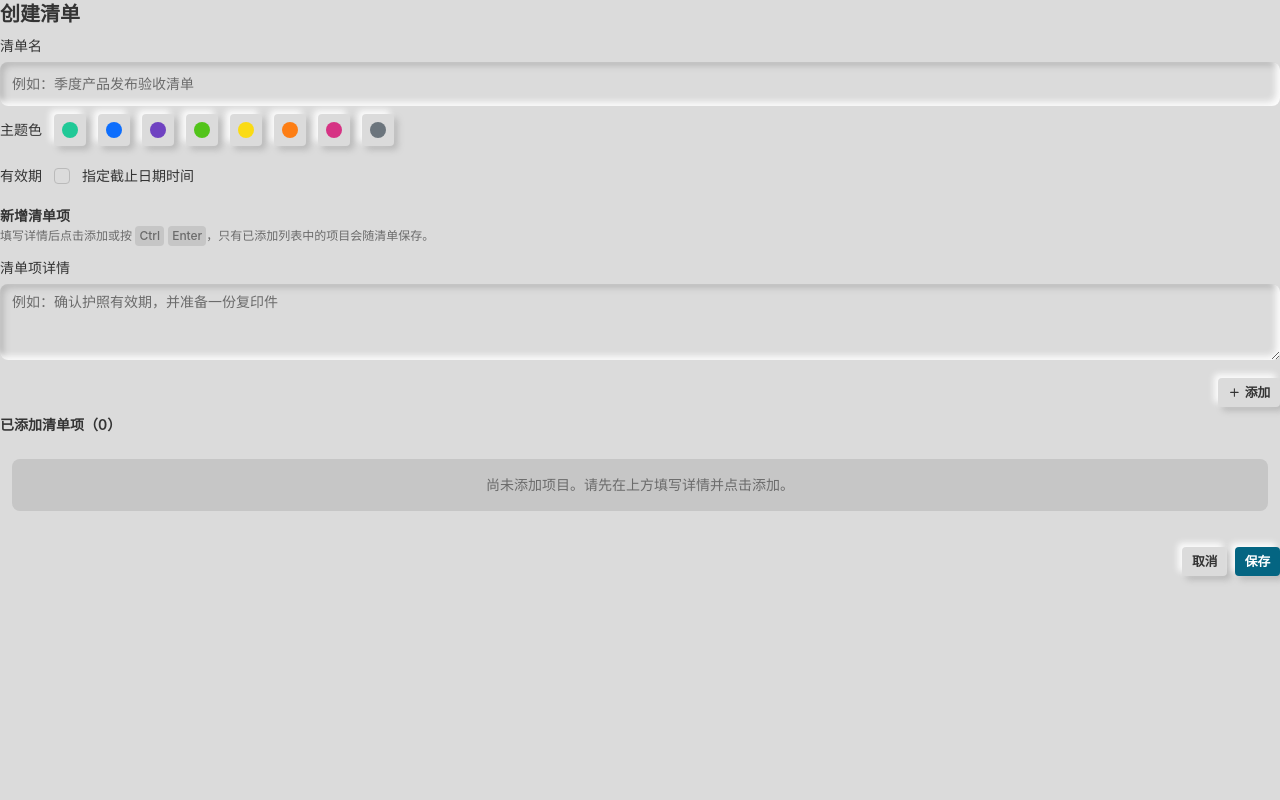
Test: ChecklistForm › covers: AC-8 adds and removes items with accessible controls
Expected: the text "尚未添加项目。请先在上方填写详情并点击添加。" is shown, [12,459,1268,511]
Step 1. Type "完成回归测试" into the text box labelled "清单项详情" → (640, 322), box [0,284,1279,360]
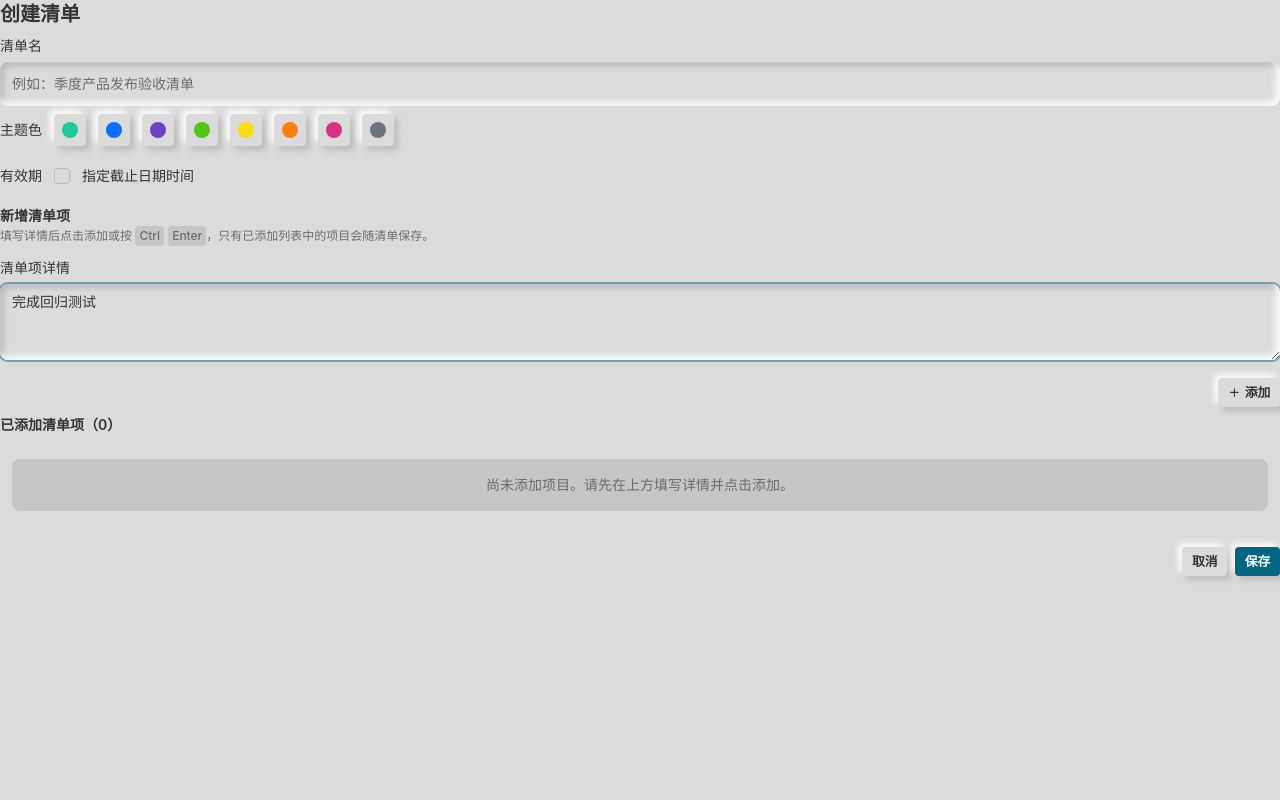
Step 2. Click the button "添加" → (1249, 392), box [1218,378,1279,407]
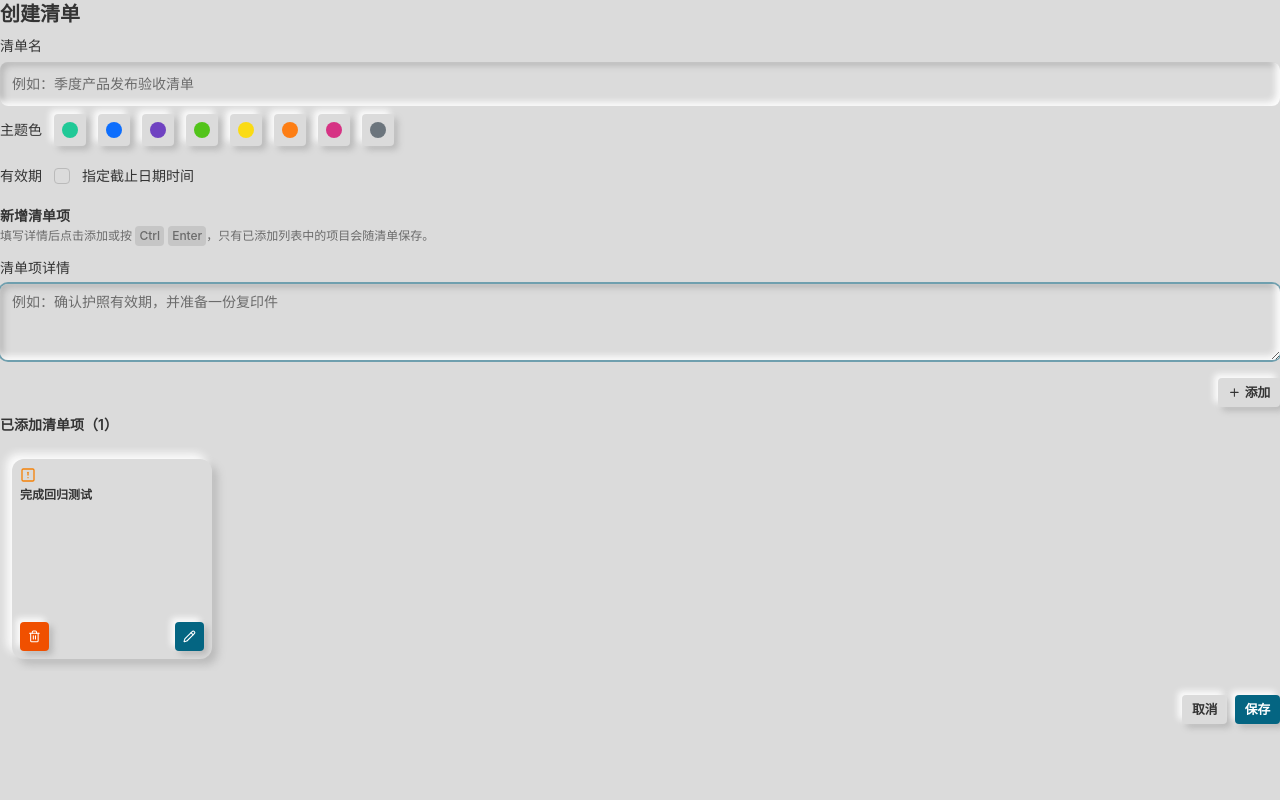
Expected: the heading "已添加清单项（1）" is shown, [0,416,118,433]
Expected: the heading "完成回归测试" is shown, [20,487,92,502]
Expected: the number of list items is 1, [12,459,212,659]
Step 3. Click the button named "删除清单项" → (34, 636), box [20,622,49,651]
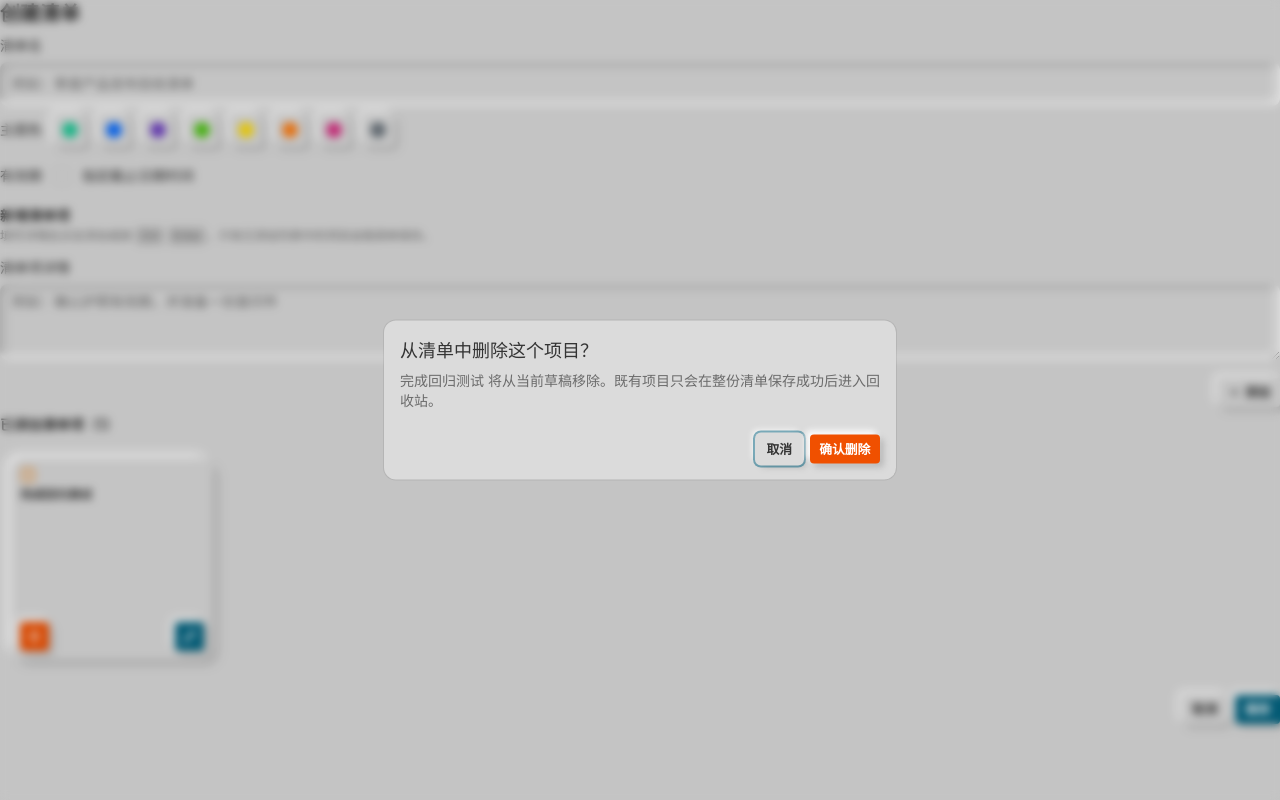
Step 4. Click the button "确认删除" → (845, 449), box [810,434,880,464]
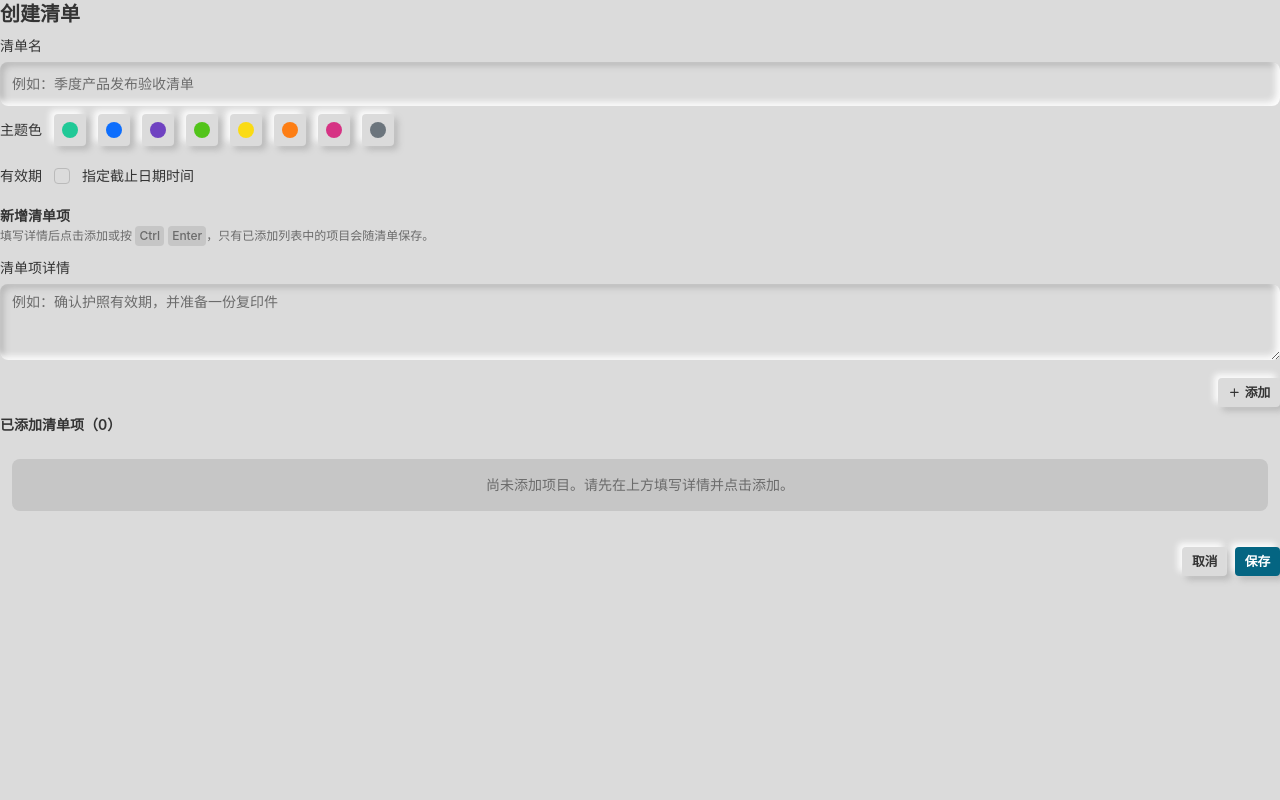
Expected: the heading "已添加清单项（0）" is shown, [0,416,121,433]
